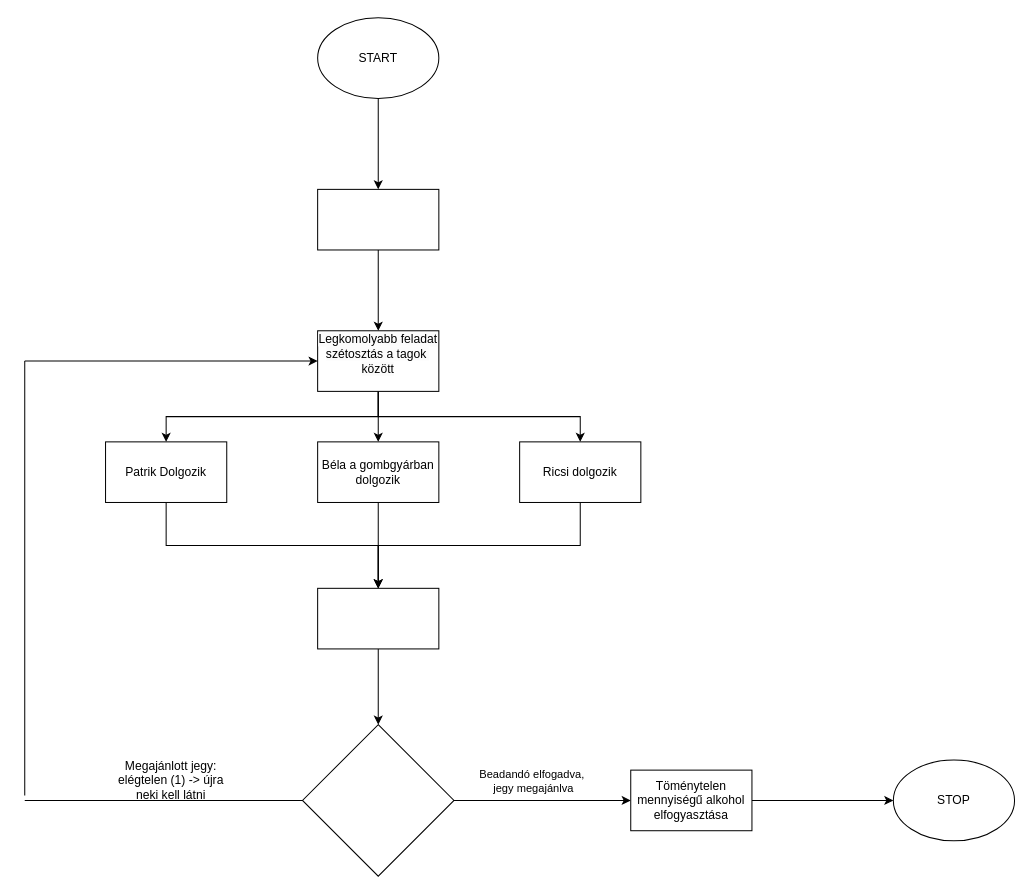
This 1032x894 diagram has some shape labels left out. The centre of each missing label's shape, as x and y in pixels:
"Ha nem romlik el nagyon, git push - commit" goes at point (378, 618).
"Legkomolyabb csapatmunka elkészül" goes at point (377, 800).
"Megtervezzük mit akarunk" goes at point (378, 219).
